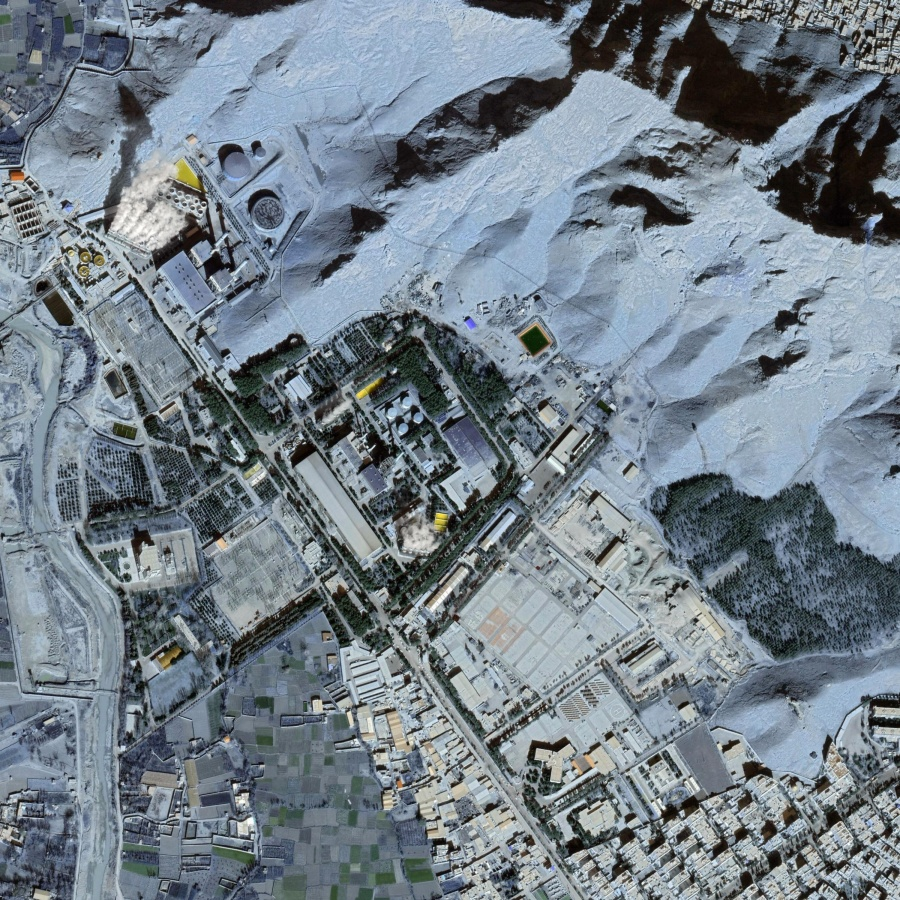PowerPlant: (10, 118, 579, 542)
